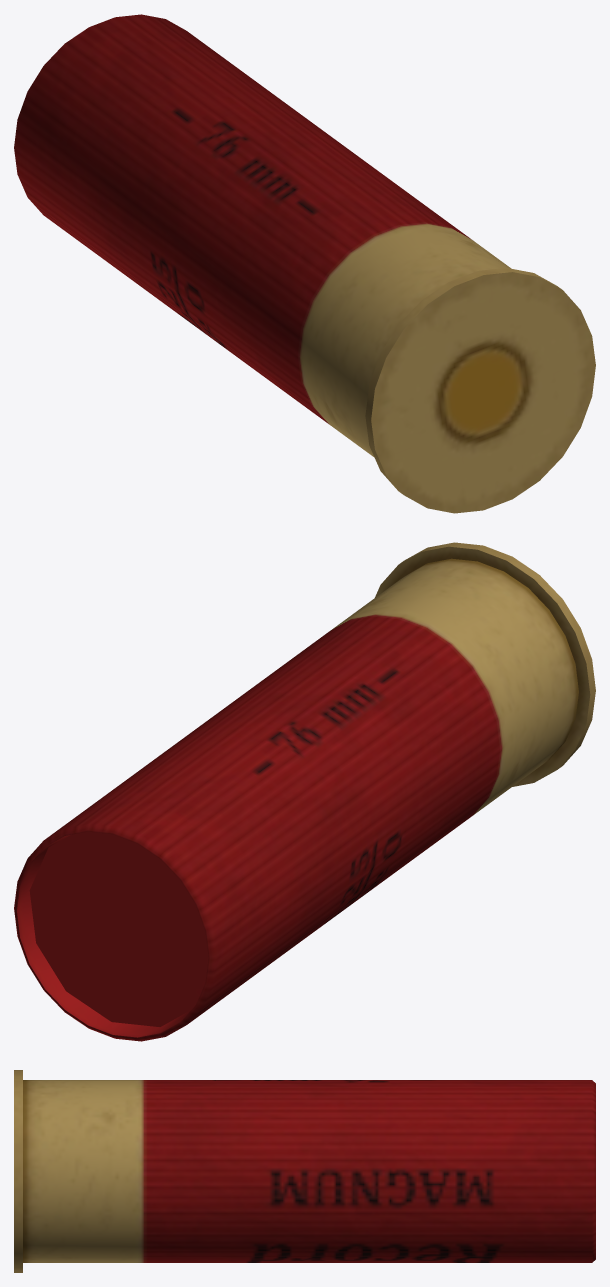
Rendered from shell_12.glb.
3 views of the same model, one above another, from view 1: azimuth 30°, elevation 25°; view 2: azimuth 150°, elevation 25°; view 3: azimuth 270°, elevation 25° (orthographic). The views are drawn at different scales.
Visible parts, largest first — view 1: shell_12; view 2: shell_12; view 3: shell_12.
Boxes of the visible parts, <box> form: shell_12: <box>14,14,595,513</box>; shell_12: <box>14,542,595,1041</box>; shell_12: <box>14,1070,595,1272</box>.
Size of the model in its own units: 0.0244 by 0.0244 by 0.0698.
1 material, 1 textured.
